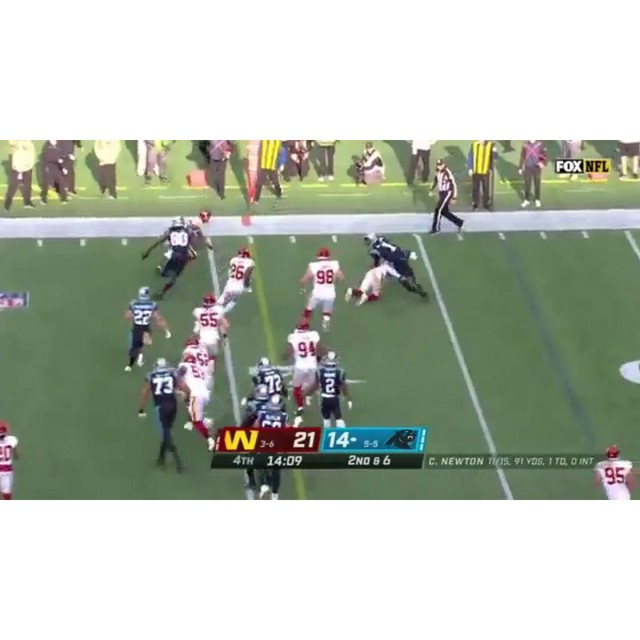american-football-player: (139, 357, 185, 472), (240, 387, 288, 497), (365, 235, 428, 301), (177, 347, 217, 449), (122, 286, 168, 374), (298, 248, 343, 334), (148, 218, 195, 300), (285, 318, 322, 414), (315, 352, 352, 431), (190, 291, 229, 357), (218, 246, 256, 312), (347, 258, 397, 308), (593, 444, 637, 500), (0, 422, 20, 500)
referee: (429, 158, 465, 236)
